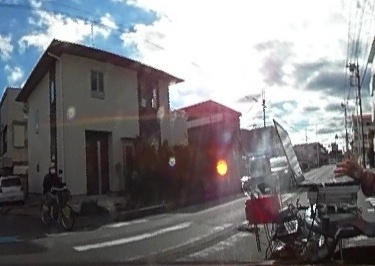person: (42, 164, 62, 219)
